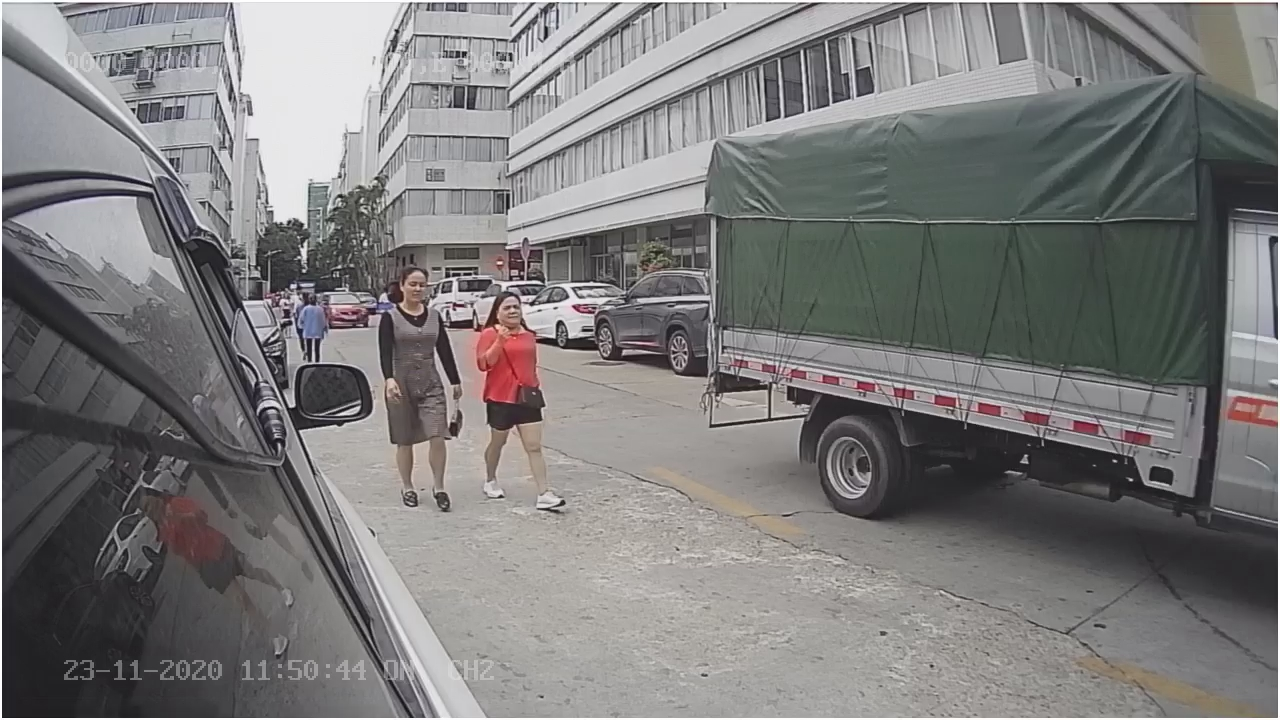person: (379, 262, 461, 511), (478, 288, 566, 515)
